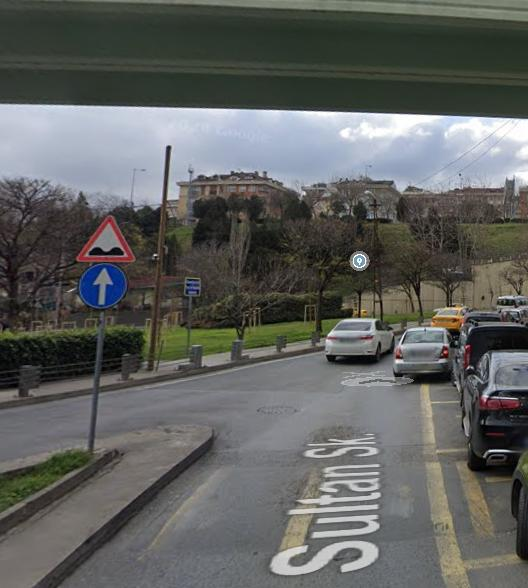forward: (78, 264, 129, 309)
